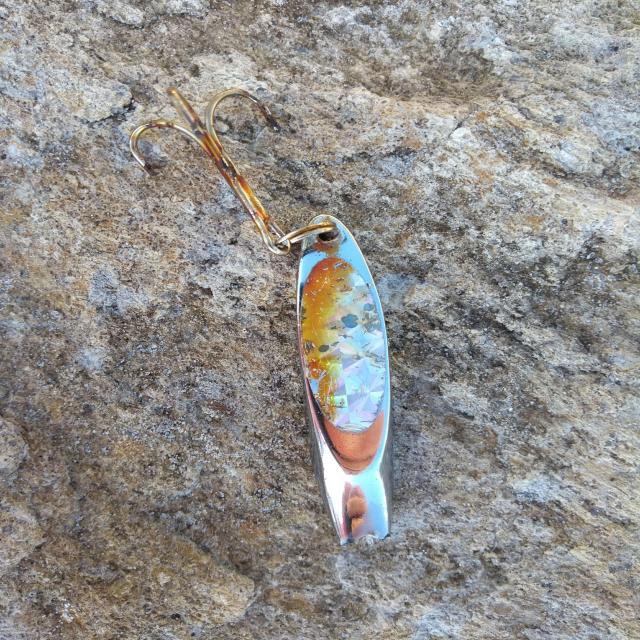Scrap metal: (130, 86, 393, 548)
